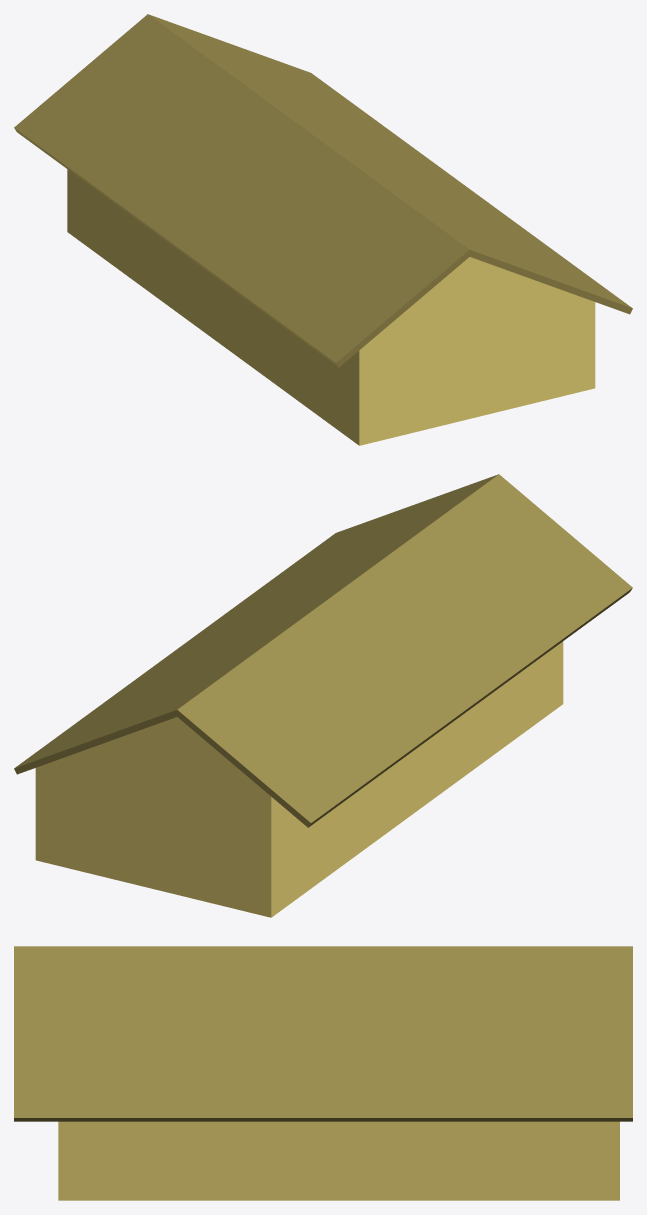
File: result.glb
The picture shows the model from 3 angles, top to bottom: view 1: azimuth 30°, elevation 25°; view 2: azimuth 150°, elevation 25°; view 3: azimuth 270°, elevation 25°; orthographic projection. The views are drawn at different scales.
Visible parts, largest first — view 1: 0d07c136-2f92-4df7-97fc-5076c8437768__undefined (×2), dc2de134-3ccc-440d-9a4c-df7c5a9b061f__undefined; view 2: 0d07c136-2f92-4df7-97fc-5076c8437768__undefined (×2), dc2de134-3ccc-440d-9a4c-df7c5a9b061f__undefined; view 3: 0d07c136-2f92-4df7-97fc-5076c8437768__undefined, dc2de134-3ccc-440d-9a4c-df7c5a9b061f__undefined.
Part boxes in pixels (bbox=[...]): 0d07c136-2f92-4df7-97fc-5076c8437768__undefined (×2): bbox=[14, 14, 632, 367]; dc2de134-3ccc-440d-9a4c-df7c5a9b061f__undefined: bbox=[67, 169, 595, 445]; 0d07c136-2f92-4df7-97fc-5076c8437768__undefined (×2): bbox=[14, 474, 632, 827]; dc2de134-3ccc-440d-9a4c-df7c5a9b061f__undefined: bbox=[35, 641, 563, 917]; 0d07c136-2f92-4df7-97fc-5076c8437768__undefined: bbox=[14, 946, 632, 1121]; dc2de134-3ccc-440d-9a4c-df7c5a9b061f__undefined: bbox=[58, 1121, 619, 1200].
Bounding box in the file's own units: 1258 × 776 × 2360.
